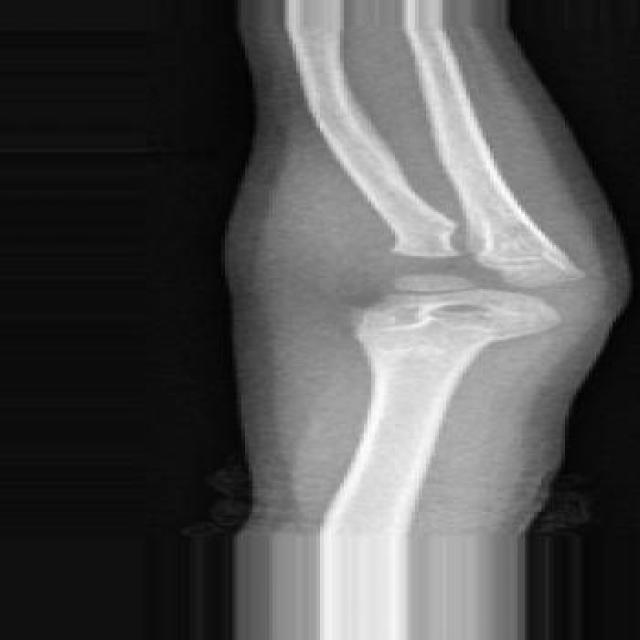Fracture: (344, 234, 486, 296)
